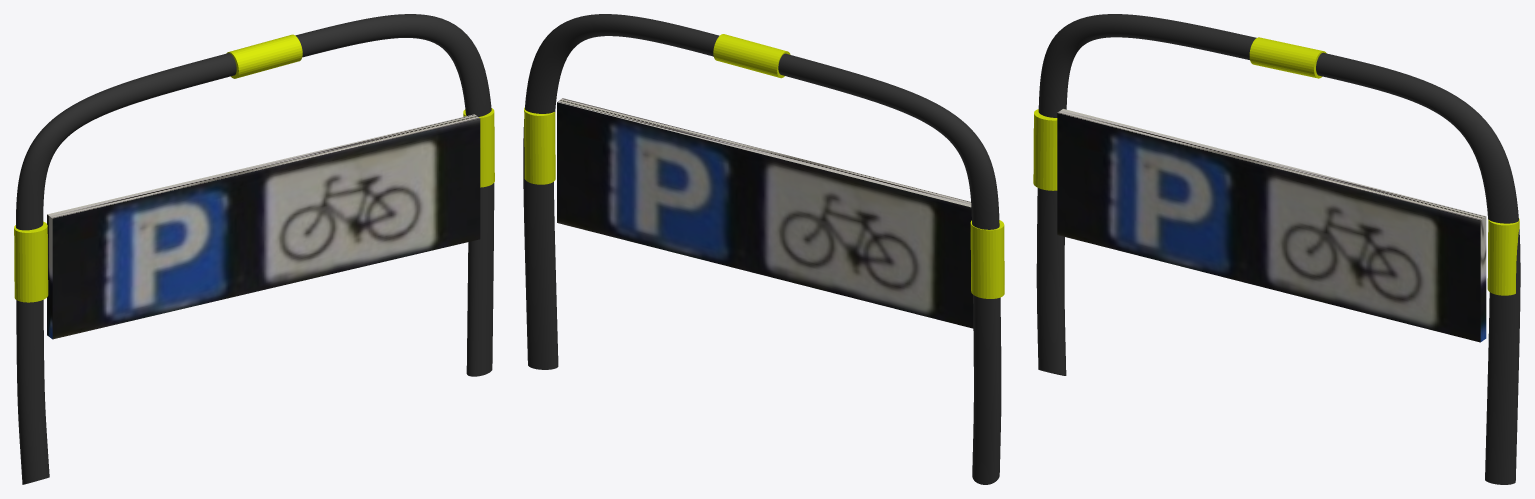
File: bikeStand.glb
3 views of the same model, side by side, from view 1: azimuth 30°, elevation 25°; view 2: azimuth 150°, elevation 25°; view 3: azimuth 330°, elevation 25° (orthographic).
Visible parts, largest first — view 1: Cube, NurbsPath, Cylinder, Cylinder.002, Cylinder.001; view 2: Cube, NurbsPath, Cylinder, Cylinder.001, Cylinder.002; view 3: Cube, NurbsPath, Cylinder.001, Cylinder.002, Cylinder.
Part boxes in pixels (box(x1,y1,x2,y2)): Cube: box(47, 114, 480, 339); NurbsPath: box(16, 14, 494, 484); Cylinder: box(14, 221, 48, 302); Cylinder.002: box(226, 34, 302, 78); Cylinder.001: box(463, 108, 494, 187); Cube: box(557, 98, 973, 328); NurbsPath: box(523, 14, 1001, 484); Cylinder: box(970, 220, 1004, 298); Cylinder.001: box(524, 107, 555, 184); Cylinder.002: box(713, 34, 790, 78); Cube: box(1057, 109, 1486, 342); NurbsPath: box(1036, 14, 1520, 484); Cylinder.001: box(1487, 218, 1519, 295); Cylinder.002: box(1249, 37, 1326, 78); Cylinder: box(1033, 109, 1057, 190).
Size of the model in its own units: 2.13 by 1.64 by 0.1576.
Materials: 3 (1 with a texture image).
